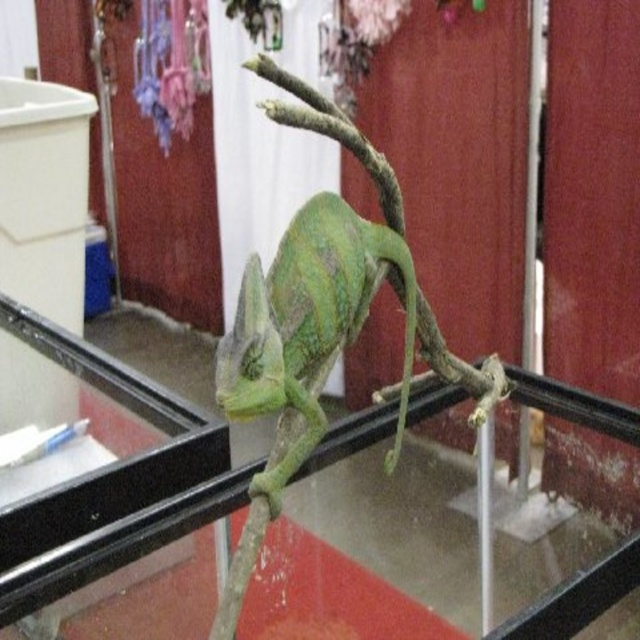Lizard: (217, 190, 489, 517)
